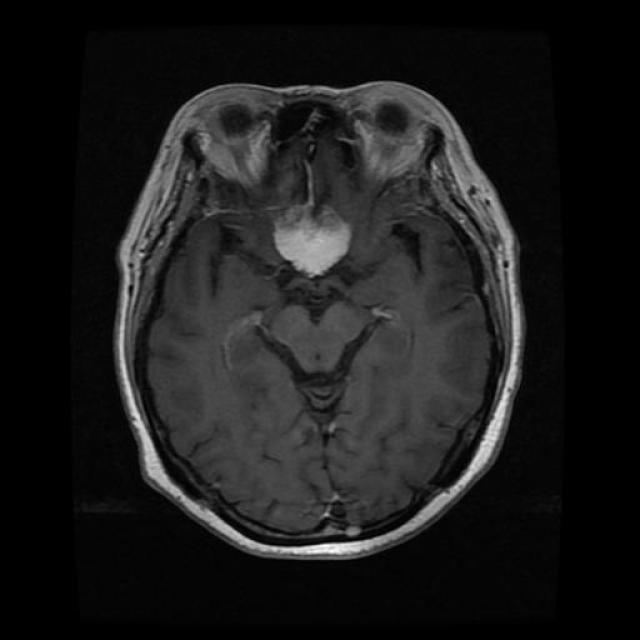meningioma: (274, 212, 351, 276)
